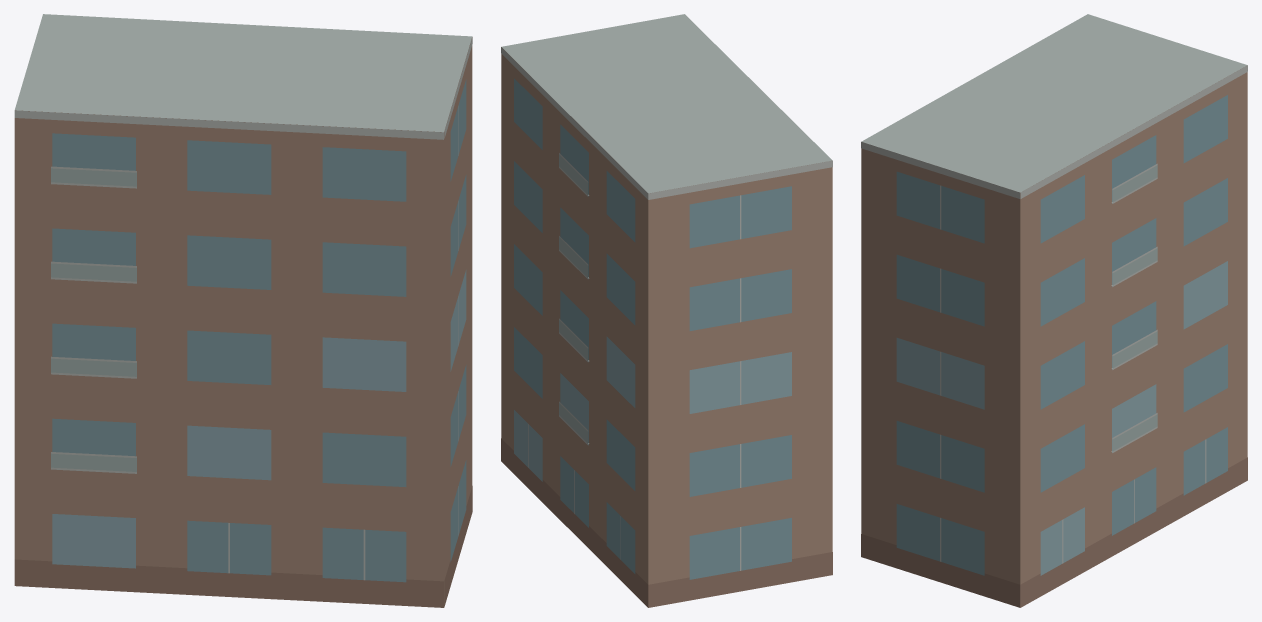
Rendered from survey-upis-32999971.glb.
The picture shows the model from 3 angles, left to right: view 1: azimuth 30°, elevation 25°; view 2: azimuth 150°, elevation 25°; view 3: azimuth 270°, elevation 25°; orthographic projection. The views are drawn at different scales.
Parts seen in each view (by area): view 1: survey-upis-32999971.tmp; view 2: survey-upis-32999971.tmp; view 3: survey-upis-32999971.tmp.
Part boxes in pixels (x1,y1,x2,y2): survey-upis-32999971.tmp: [14, 14, 472, 607]; survey-upis-32999971.tmp: [501, 14, 832, 607]; survey-upis-32999971.tmp: [861, 14, 1247, 607].
Bounding box in the file's own units: 14.07 × 15.25 × 12.87.
